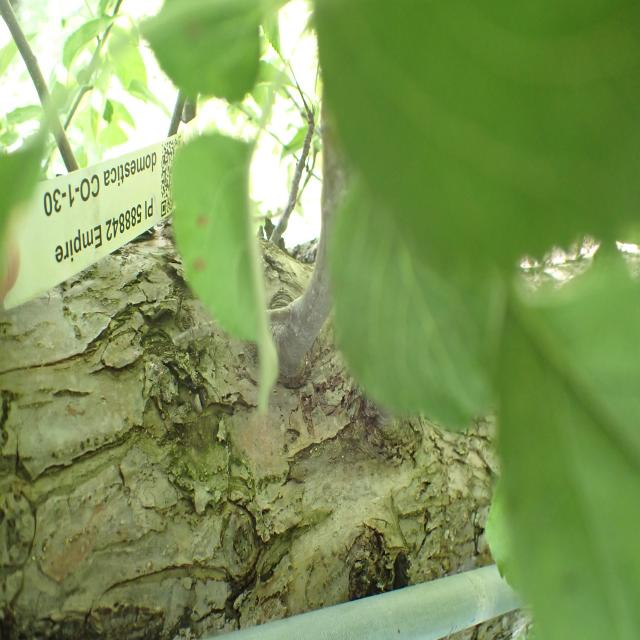scab: (509, 318, 640, 548), (171, 182, 224, 316)
